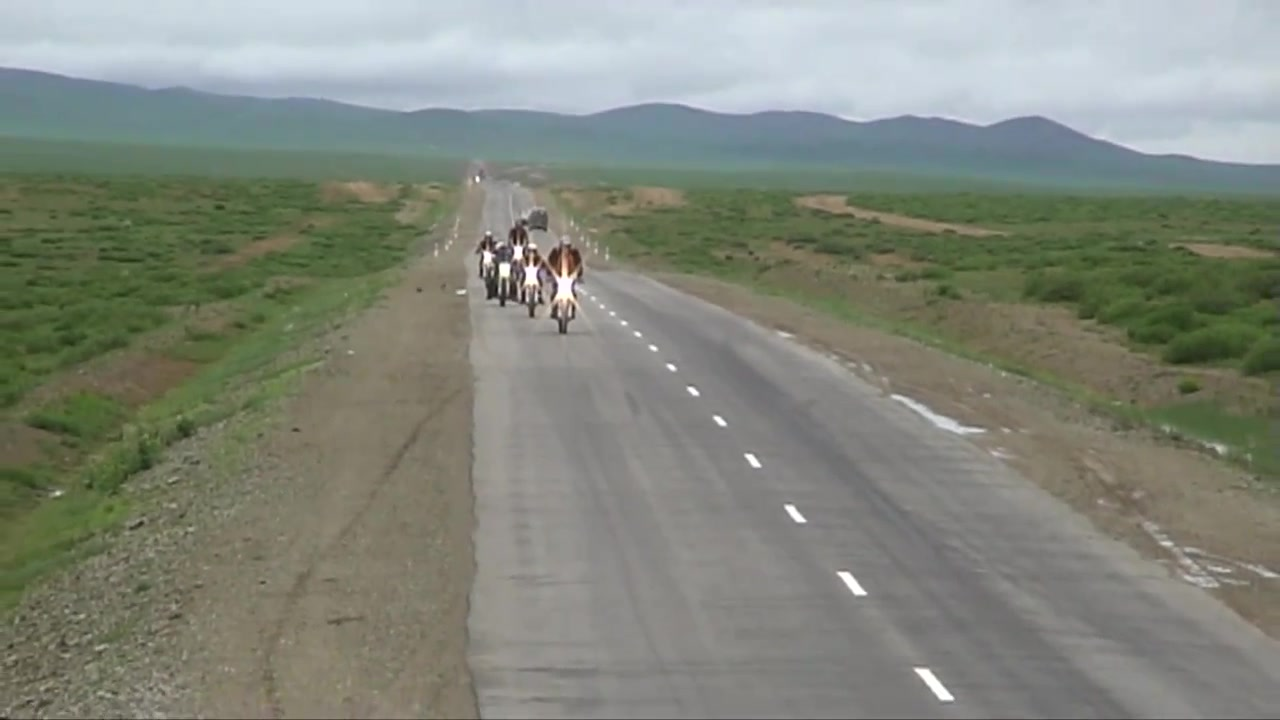motorbike: (542, 265, 587, 331), (511, 259, 549, 320), (493, 255, 516, 304), (477, 246, 499, 284), (508, 236, 534, 260)
